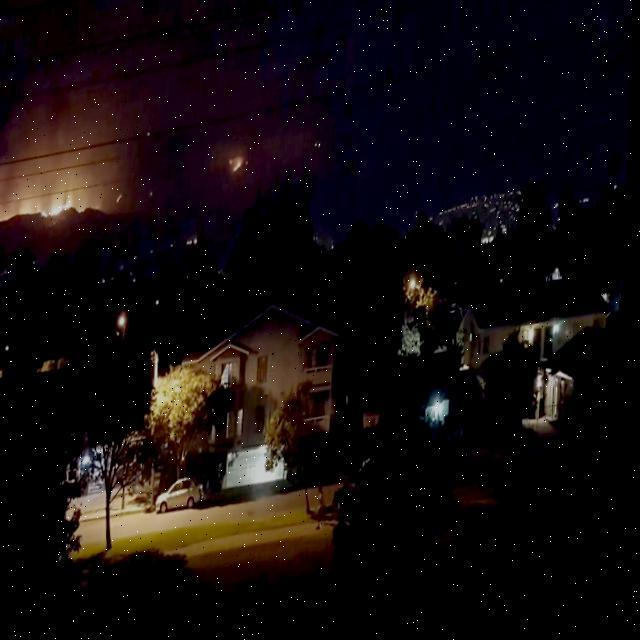Fire: (0, 195, 81, 230), (230, 164, 243, 183), (118, 198, 124, 208)
